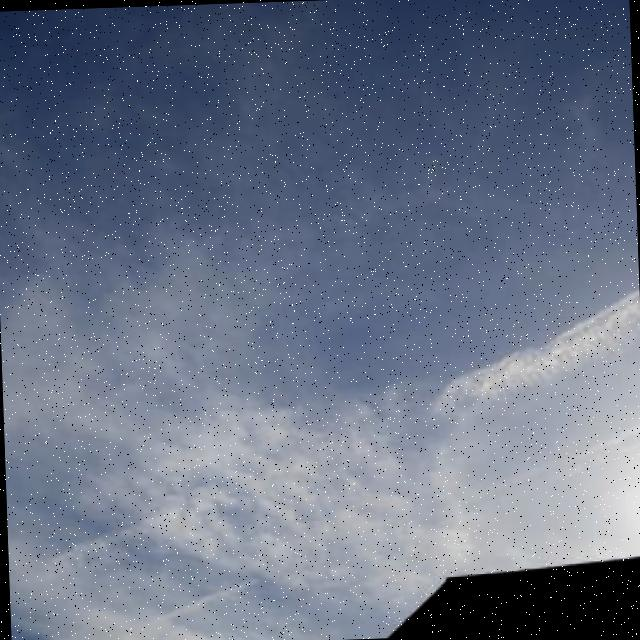Ct: (1, 1, 640, 544)
